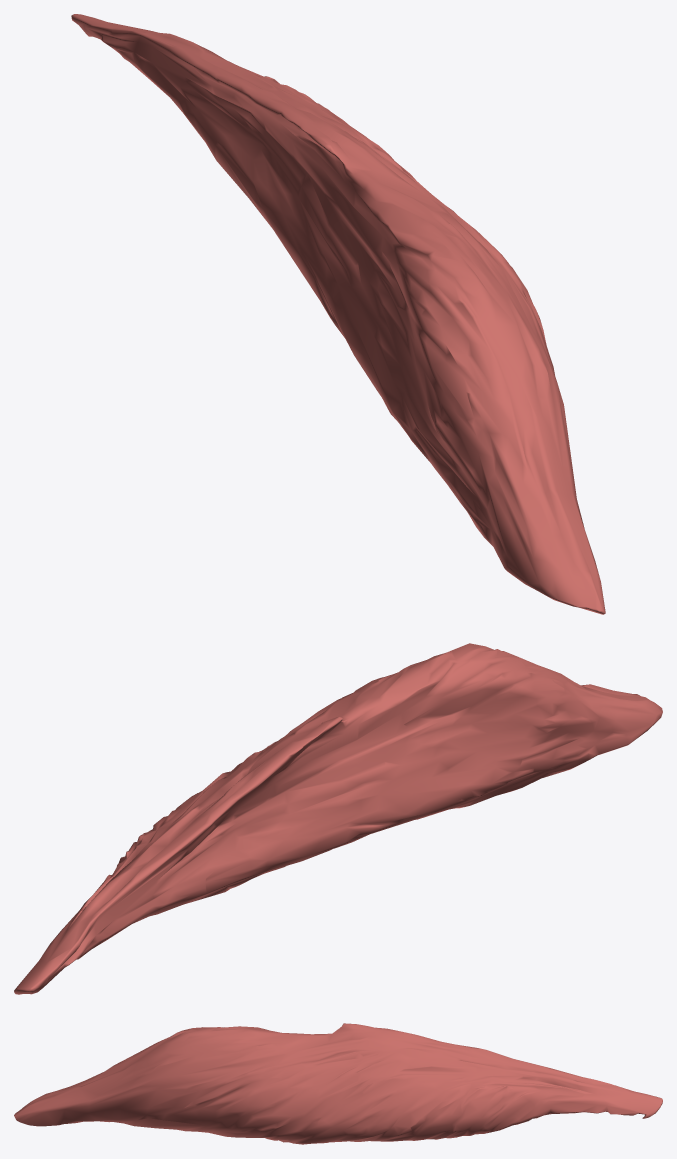
The picture shows the model from 3 angles, top to bottom: view 1: azimuth 30°, elevation 25°; view 2: azimuth 150°, elevation 25°; view 3: azimuth 270°, elevation 25°; orthographic projection. The views are drawn at different scales.
Visible parts, largest first — view 1: 左侧肱三头肌外侧头; view 2: 左侧肱三头肌外侧头; view 3: 左侧肱三头肌外侧头.
Boxes of the visible parts, box(x1,y1,x2,y2) form: 左侧肱三头肌外侧头: box(71, 14, 605, 614); 左侧肱三头肌外侧头: box(14, 643, 662, 994); 左侧肱三头肌外侧头: box(14, 1023, 662, 1144).
Size of the model in its own units: 0.0828 by 0.0747 by 0.3901.
